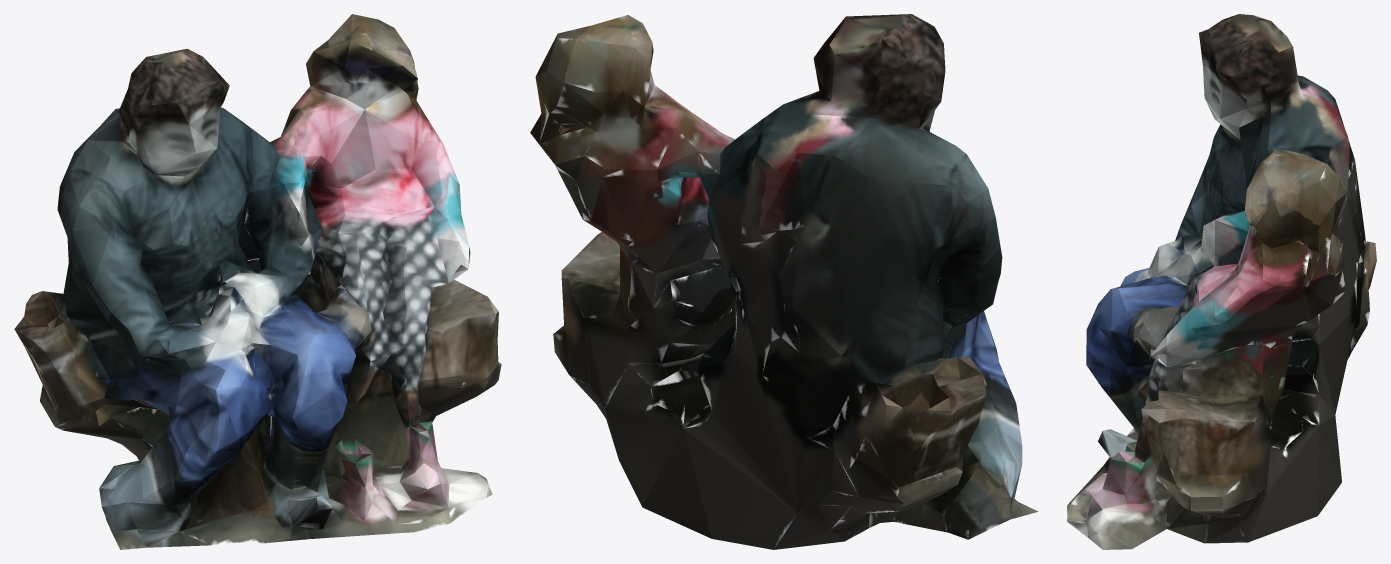
The model's file is kakashi_18b.fbx.
The picture shows the model from 3 angles, left to right: view 1: azimuth 30°, elevation 25°; view 2: azimuth 150°, elevation 25°; view 3: azimuth 270°, elevation 25°; orthographic projection. The views are drawn at different scales.
Visible parts, largest first — view 1: MeshS; view 2: MeshS; view 3: MeshS.
Part boxes in pixels (<box>): MeshS: <box>14,14,501,549</box>; MeshS: <box>530,14,1038,549</box>; MeshS: <box>1067,14,1376,549</box>.
Bounding box in the file's own units: 18.1 × 18.39 × 12.37.
1 material, 1 textured.
